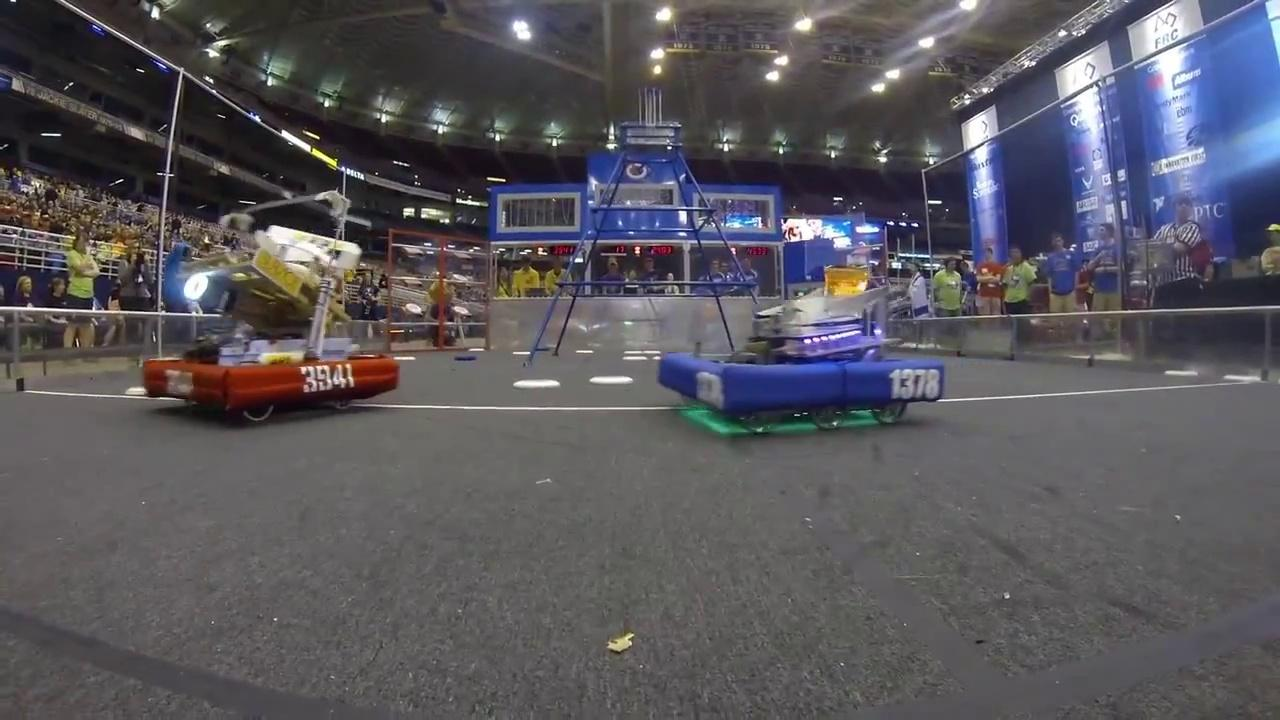robot: (143, 188, 402, 428), (654, 281, 948, 438)
